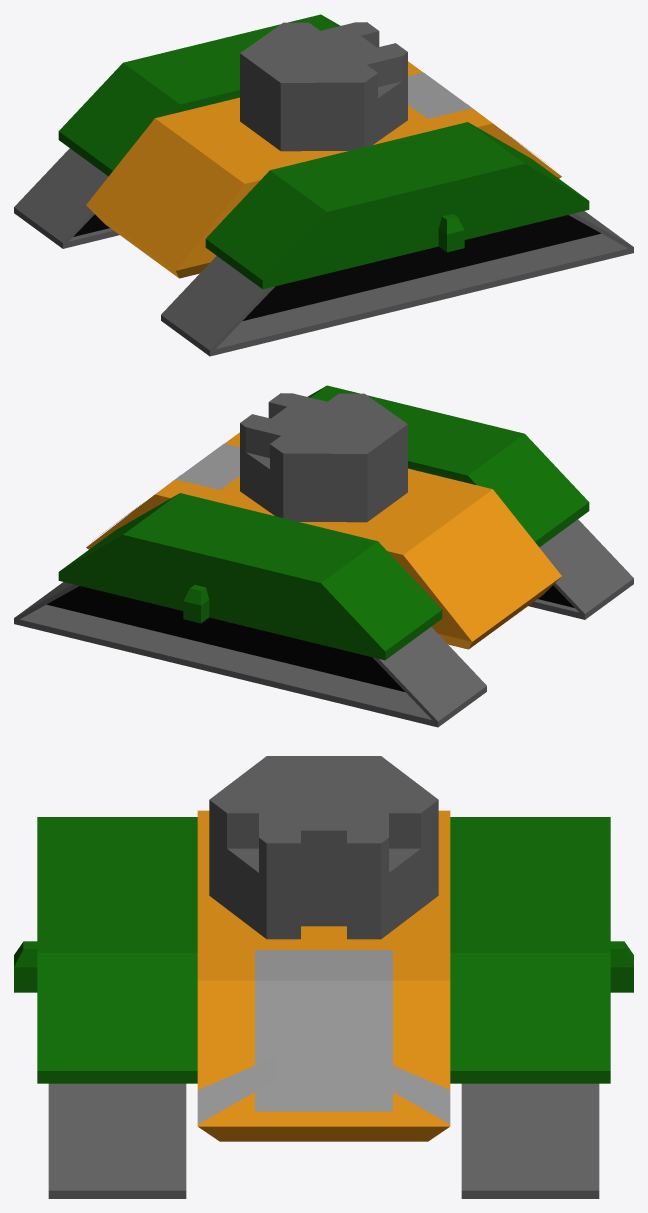
The model's file is LegHeavy.fbx.
The picture shows the model from 3 angles, top to bottom: view 1: azimuth 30°, elevation 25°; view 2: azimuth 150°, elevation 25°; view 3: azimuth 270°, elevation 25°; orthographic projection. The views are drawn at different scales.
Parts seen in each view (by area): view 1: meka.C.U; view 2: meka.C.U; view 3: meka.C.U.
Part boxes in pixels (x1=…): meka.C.U: x1=14, y1=14, x2=633, y2=356; meka.C.U: x1=14, y1=385, x2=633, y2=727; meka.C.U: x1=14, y1=756, x2=633, y2=1198.
Bounding box in the file's own units: 3000 × 1220 × 2702.
